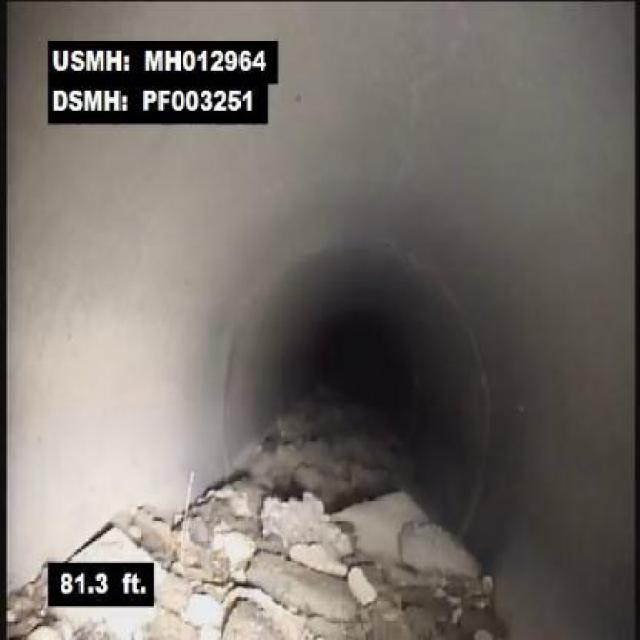Debris: (156, 503, 498, 639)
